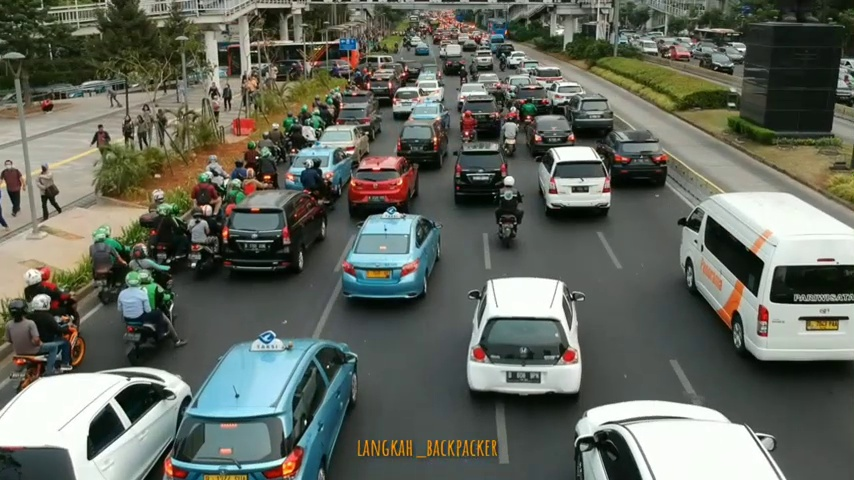car: (679, 192, 852, 366), (168, 331, 357, 480), (1, 366, 194, 480), (569, 393, 784, 480), (469, 274, 583, 400), (344, 208, 438, 303), (225, 189, 327, 274), (537, 146, 611, 219), (225, 40, 362, 78), (599, 130, 668, 190), (350, 154, 418, 214), (454, 139, 508, 205), (289, 146, 351, 199), (399, 119, 448, 170), (313, 124, 370, 166), (565, 93, 613, 136), (525, 115, 575, 156), (462, 94, 502, 139), (336, 103, 382, 141), (409, 101, 451, 129), (393, 86, 427, 119), (512, 84, 550, 113), (367, 71, 399, 105), (547, 81, 585, 108), (699, 50, 734, 77), (418, 80, 444, 103), (487, 17, 508, 40), (474, 50, 493, 72), (639, 38, 657, 58), (671, 45, 690, 60)
motorbike: (7, 295, 83, 390), (120, 273, 182, 357), (22, 266, 78, 337), (89, 228, 132, 302), (186, 207, 224, 276), (129, 244, 174, 298), (154, 203, 187, 272), (493, 176, 523, 248), (142, 189, 170, 250), (302, 158, 333, 209), (189, 171, 220, 222), (203, 154, 229, 202), (256, 147, 278, 189), (502, 116, 518, 157), (289, 127, 307, 163), (520, 97, 537, 132), (269, 122, 283, 163), (462, 111, 478, 146), (506, 92, 519, 119), (492, 84, 504, 112), (469, 59, 479, 80), (458, 66, 468, 85), (500, 53, 506, 73)
